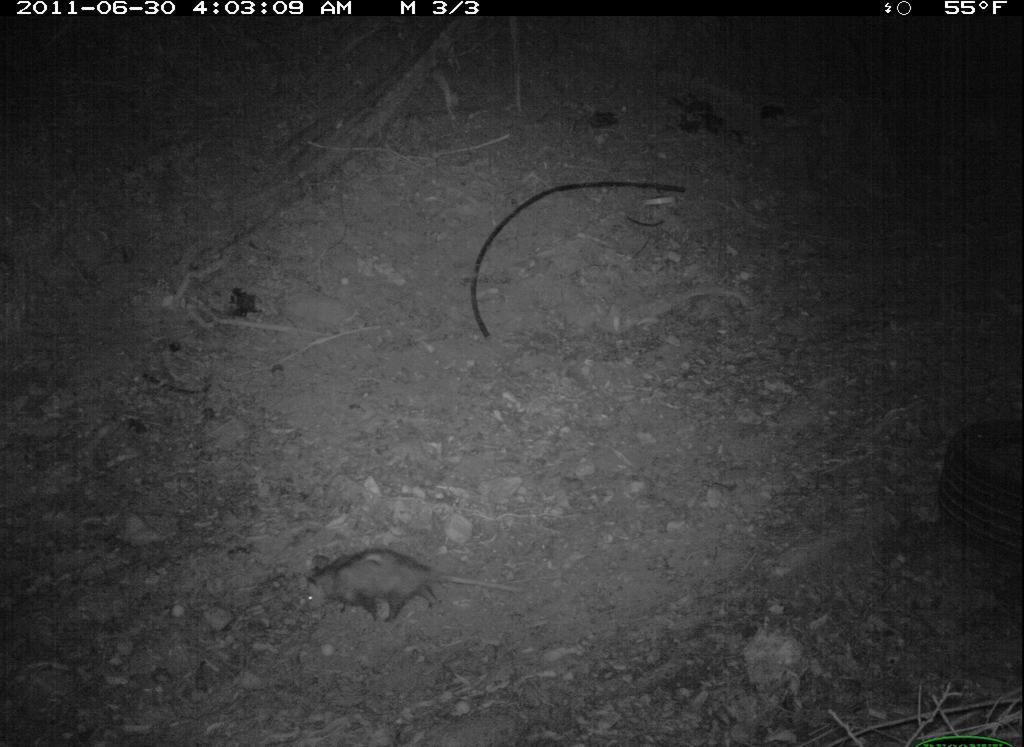opossum: (290, 527, 516, 650)
